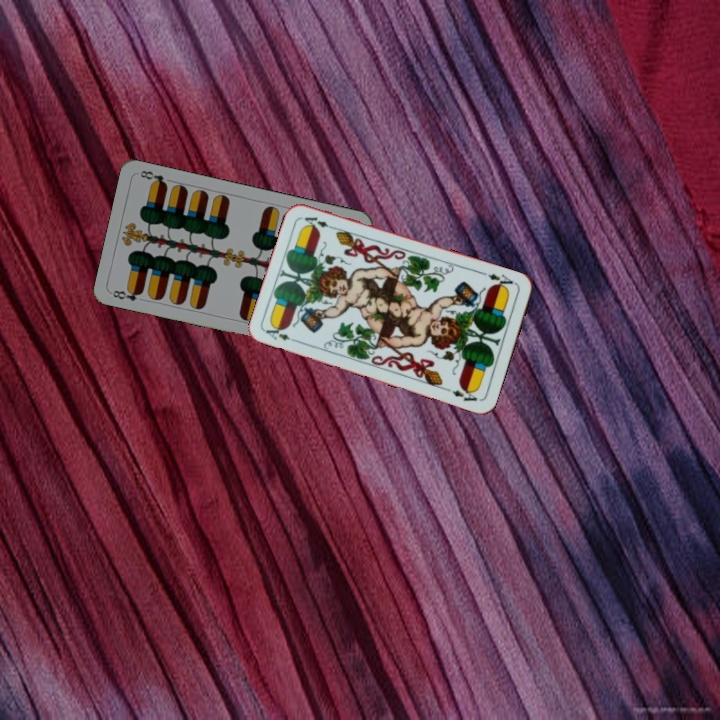E8: (107, 285, 145, 304)
EA: (262, 321, 301, 345), (484, 269, 519, 292)
